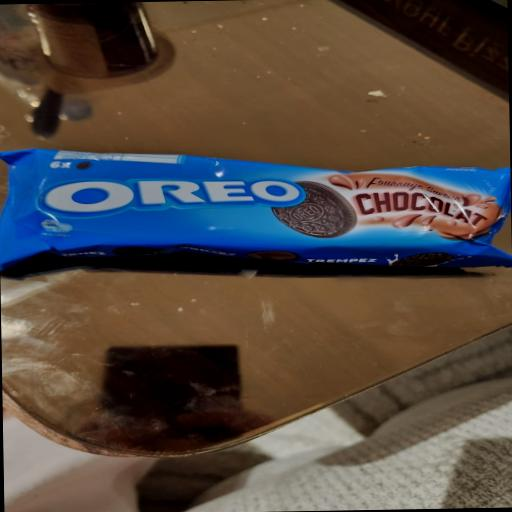oreo: (7, 103, 512, 296)
